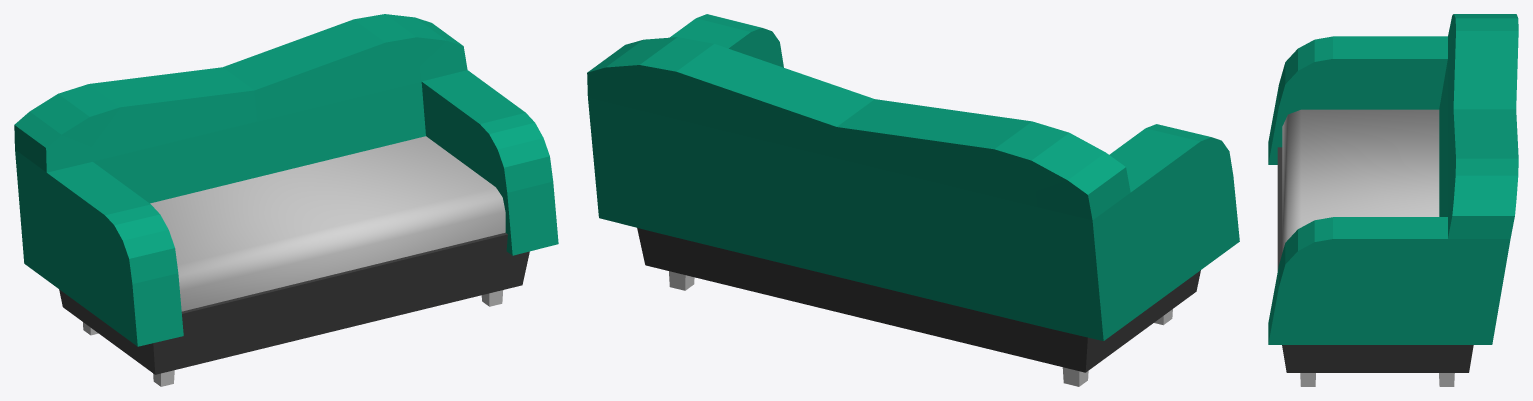
The model's file is Sofa 1.fbx.
3 views of the same model, side by side, from view 1: azimuth 30°, elevation 25°; view 2: azimuth 150°, elevation 25°; view 3: azimuth 270°, elevation 25° (orthographic). The views are drawn at different scales.
Parts seen in each view (by area): view 1: Sofa 1; view 2: Sofa 1; view 3: Sofa 1.
Boxes of the visible parts, x1,y1,x2,y2 form: Sofa 1: (14, 14, 558, 386); Sofa 1: (587, 14, 1239, 386); Sofa 1: (1268, 14, 1518, 386).
Bounding box in the file's own units: 179 × 86.65 × 93.66.
